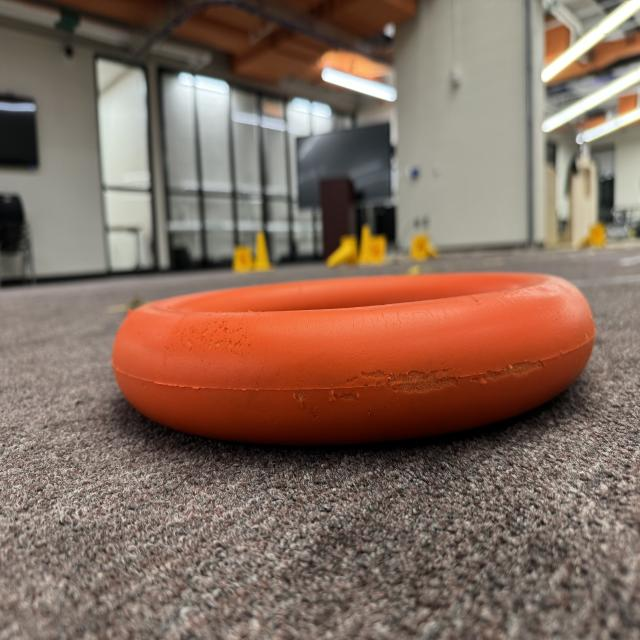note: (96, 262, 605, 450)
